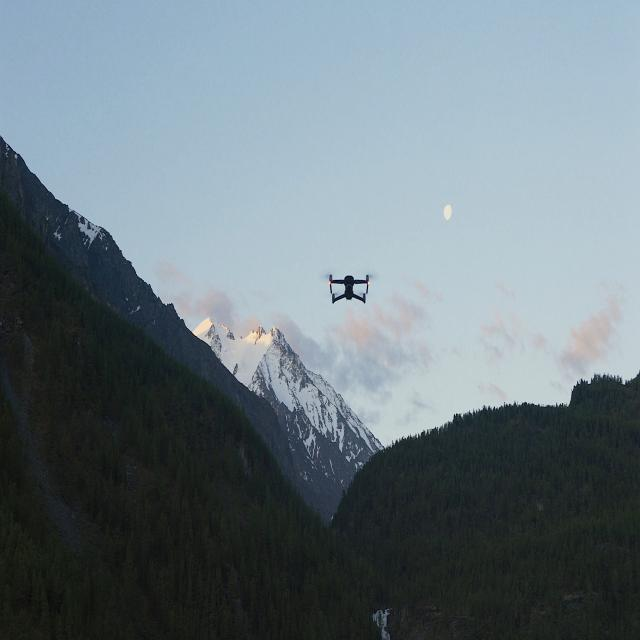Drone: (327, 274, 372, 305)
